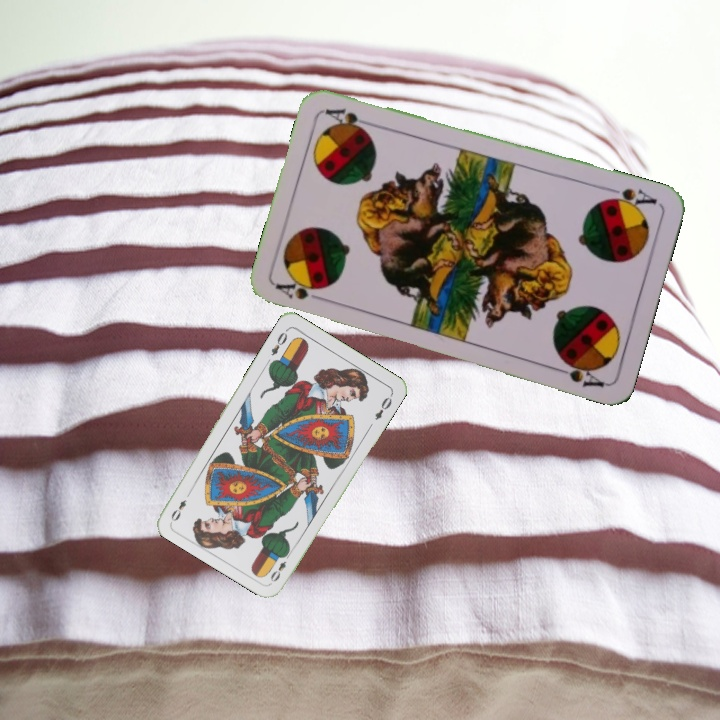EO: (266, 548, 294, 585), (267, 325, 290, 358)
SA: (600, 184, 660, 213), (272, 278, 331, 305)
